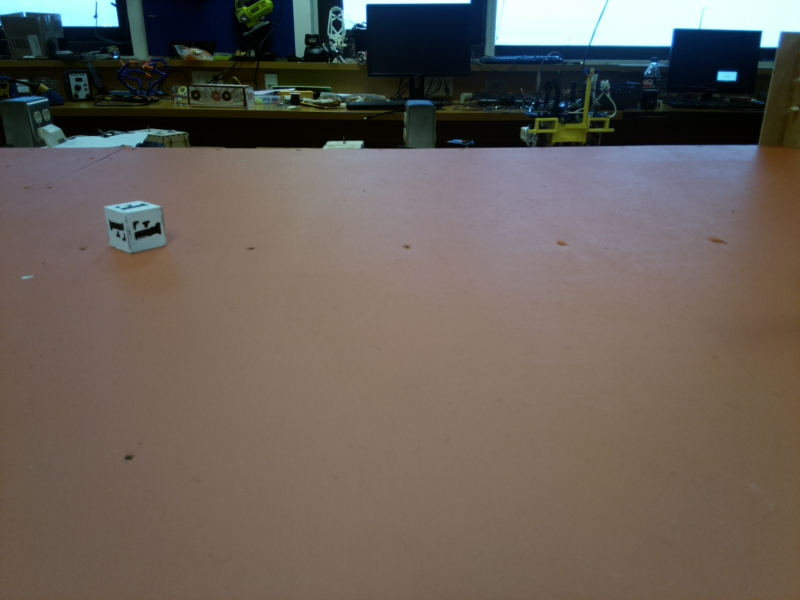blockF: (100, 196, 170, 263)
